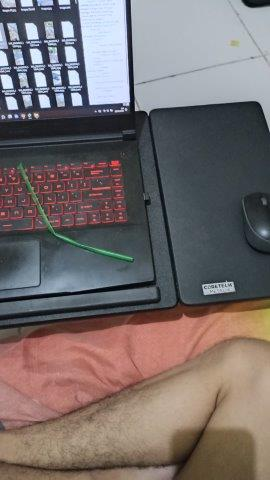sedotan: (18, 165, 131, 261)
